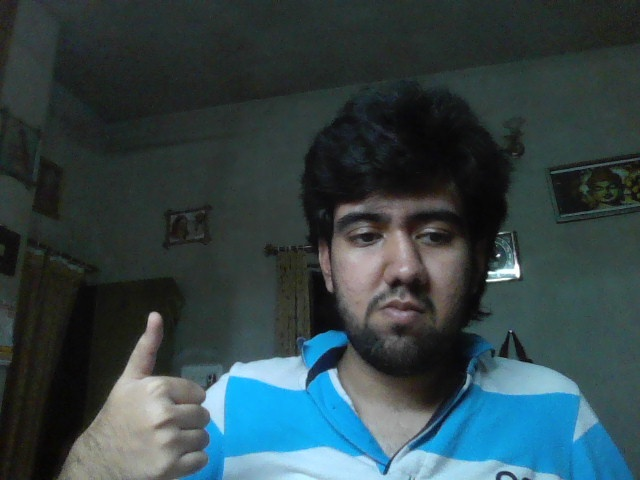Ok: (99, 311, 209, 480)
